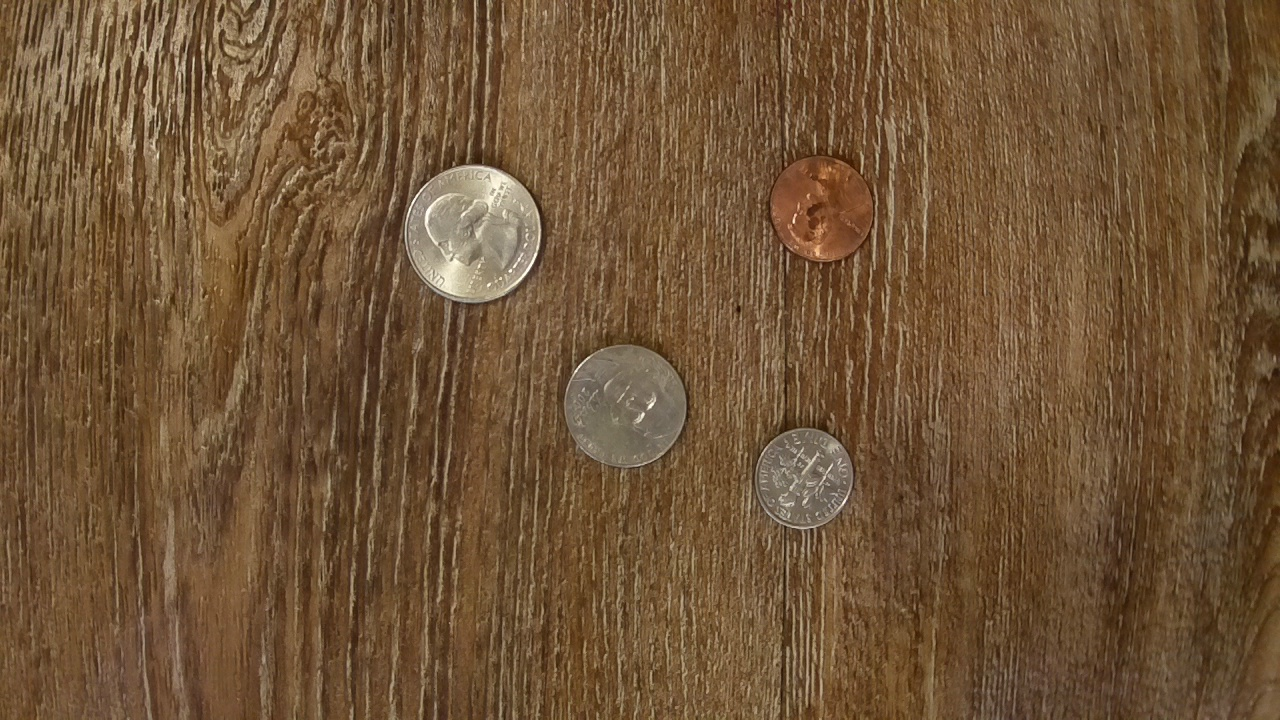dime: (751, 422, 857, 532)
nickel: (562, 336, 688, 476)
penny: (766, 150, 878, 266)
quarter: (402, 158, 546, 308)
